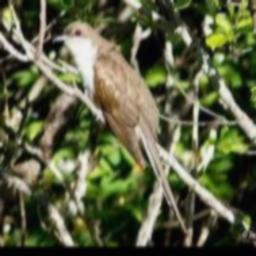Cuckoo: (51, 20, 187, 234)
